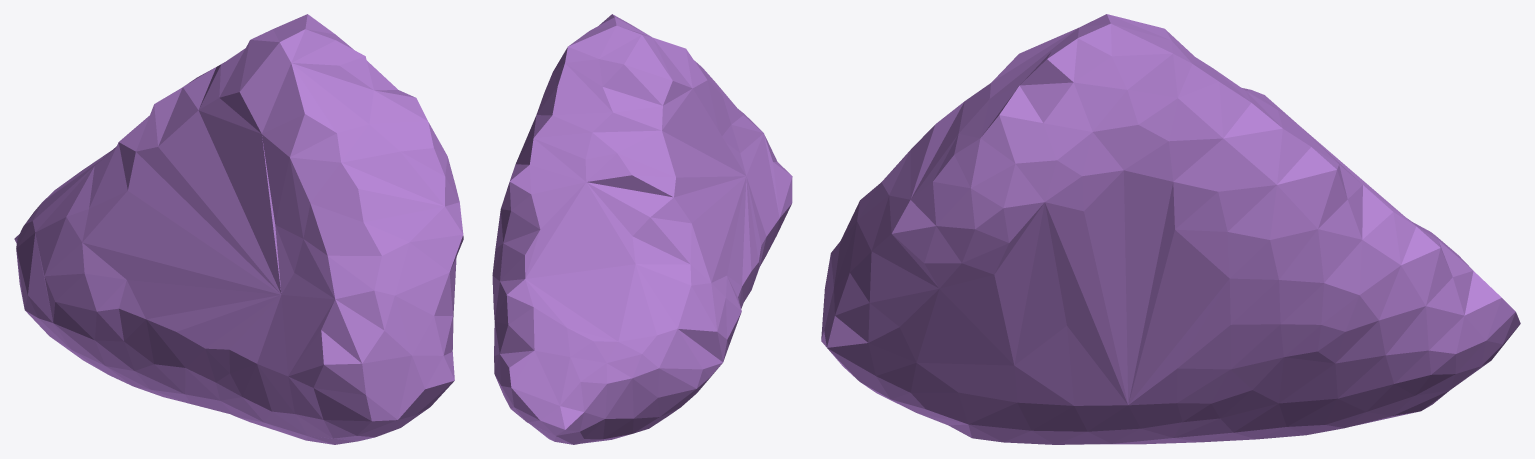
File: Model_10282_LH__Angular_thalamic_nucleus_(Ang).obj
3 views of the same model, side by side, from view 1: azimuth 30°, elevation 25°; view 2: azimuth 150°, elevation 25°; view 3: azimuth 270°, elevation 25° (orthographic). The views are drawn at different scales.
Bounding box in the file's own units: 0.6883 × 0.8886 × 1.29.
